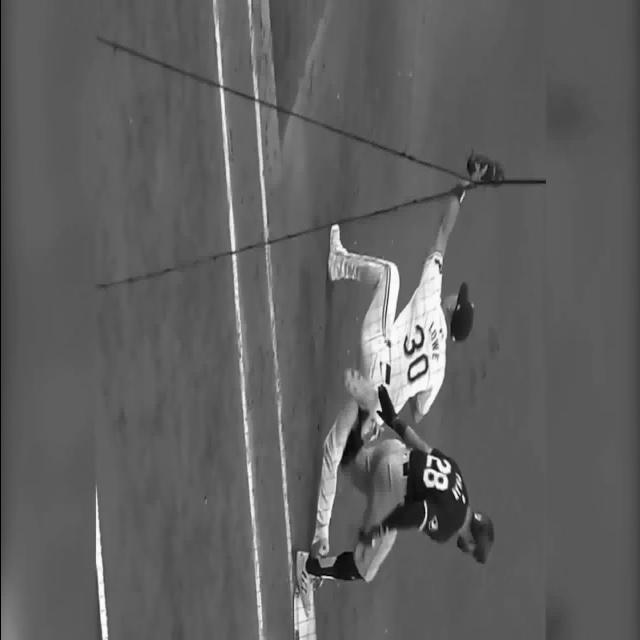base: (292, 589, 315, 640)
baseball_glove: (466, 151, 504, 184)
shoe: (344, 369, 380, 413), (295, 551, 312, 618), (326, 224, 346, 280), (310, 522, 329, 558)
